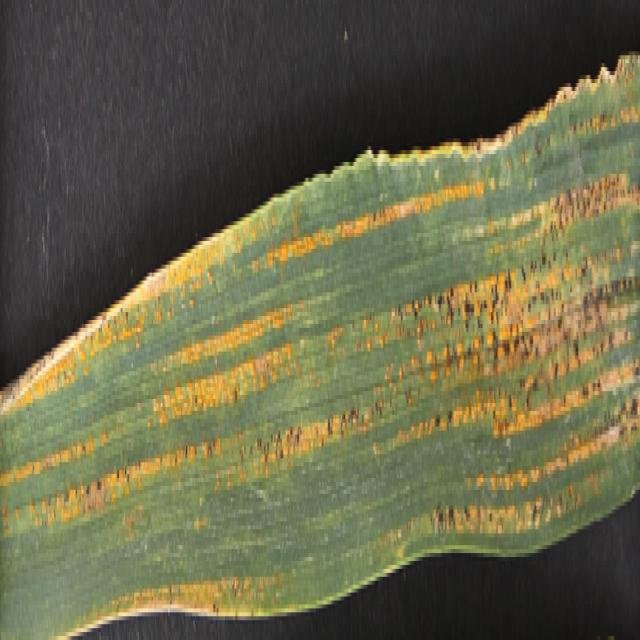leaf rust: (2, 59, 640, 600)
